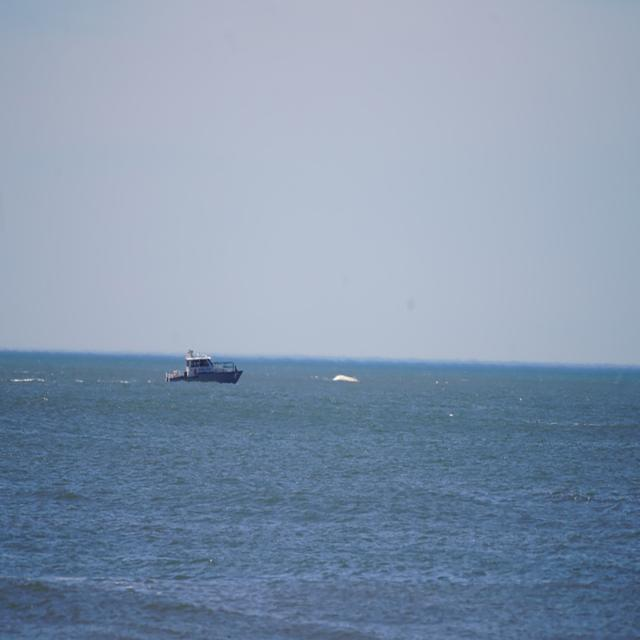houseboat: (167, 343, 243, 384)
